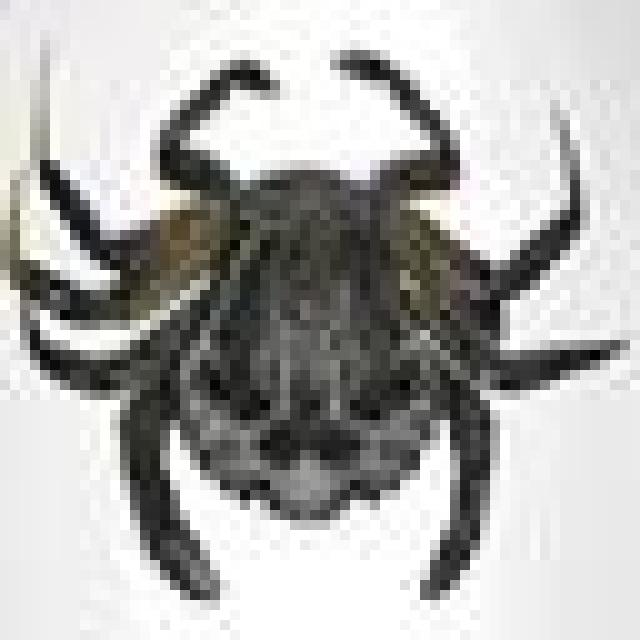European Green crab: (0, 50, 610, 590)
